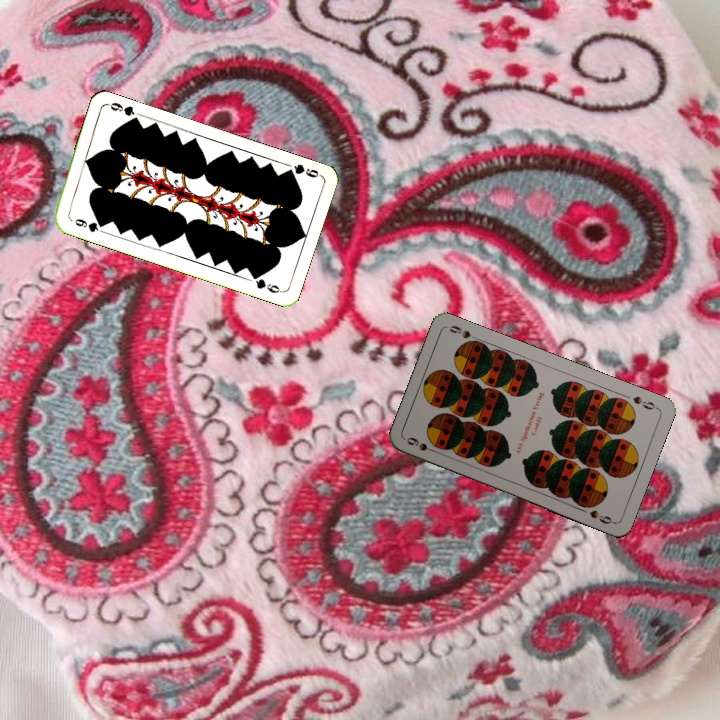G9: (66, 214, 107, 235), (281, 160, 323, 180)
S9: (402, 433, 441, 456), (629, 392, 660, 412)
